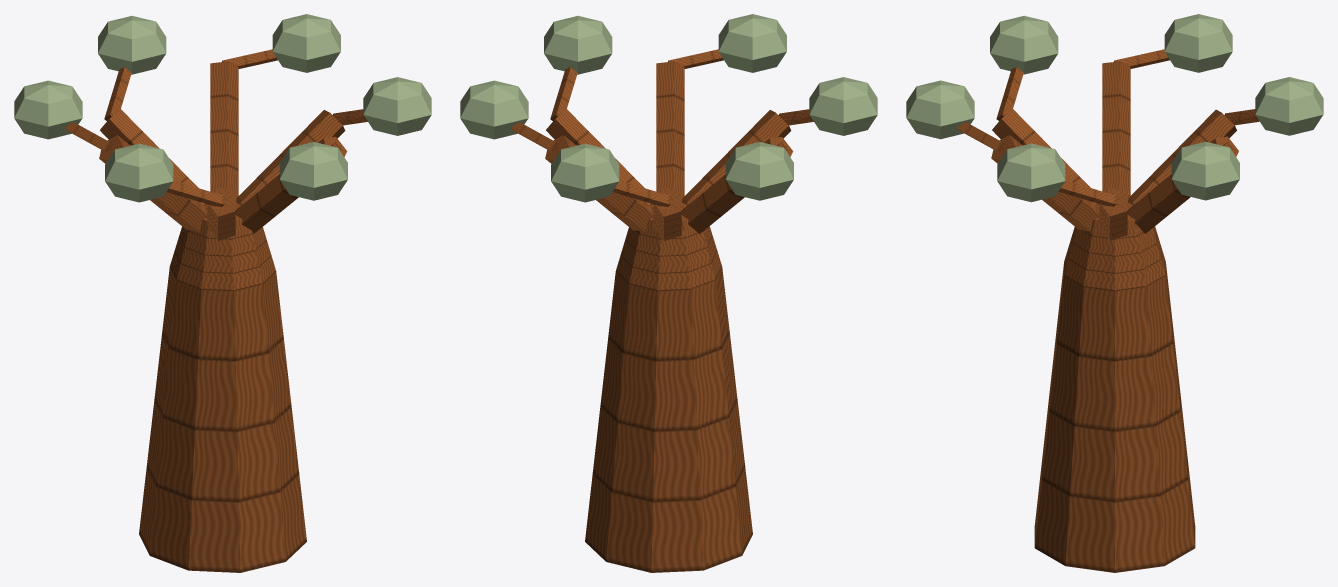
File: baobab-real.glb
The picture shows the model from 3 angles, left to right: view 1: azimuth 30°, elevation 25°; view 2: azimuth 150°, elevation 25°; view 3: azimuth 270°, elevation 25°; orthographic projection.
Parts seen in each view (by area): view 1: baobab-tree-timber, baobab-tree-scrub; view 2: baobab-tree-timber, baobab-tree-scrub; view 3: baobab-tree-timber, baobab-tree-scrub.
Part boxes in pixels (left/top/right/bottom): baobab-tree-timber: left=65, top=49, right=367, bottom=572; baobab-tree-scrub: left=14, top=14, right=431, bottom=202; baobab-tree-timber: left=511, top=49, right=813, bottom=572; baobab-tree-scrub: left=460, top=14, right=877, bottom=202; baobab-tree-timber: left=957, top=49, right=1259, bottom=572; baobab-tree-scrub: left=906, top=14, right=1323, bottom=202.
Size of the model in its own units: 6.84 by 8.9 by 7.41.
Materials: 2 (1 with a texture image).
